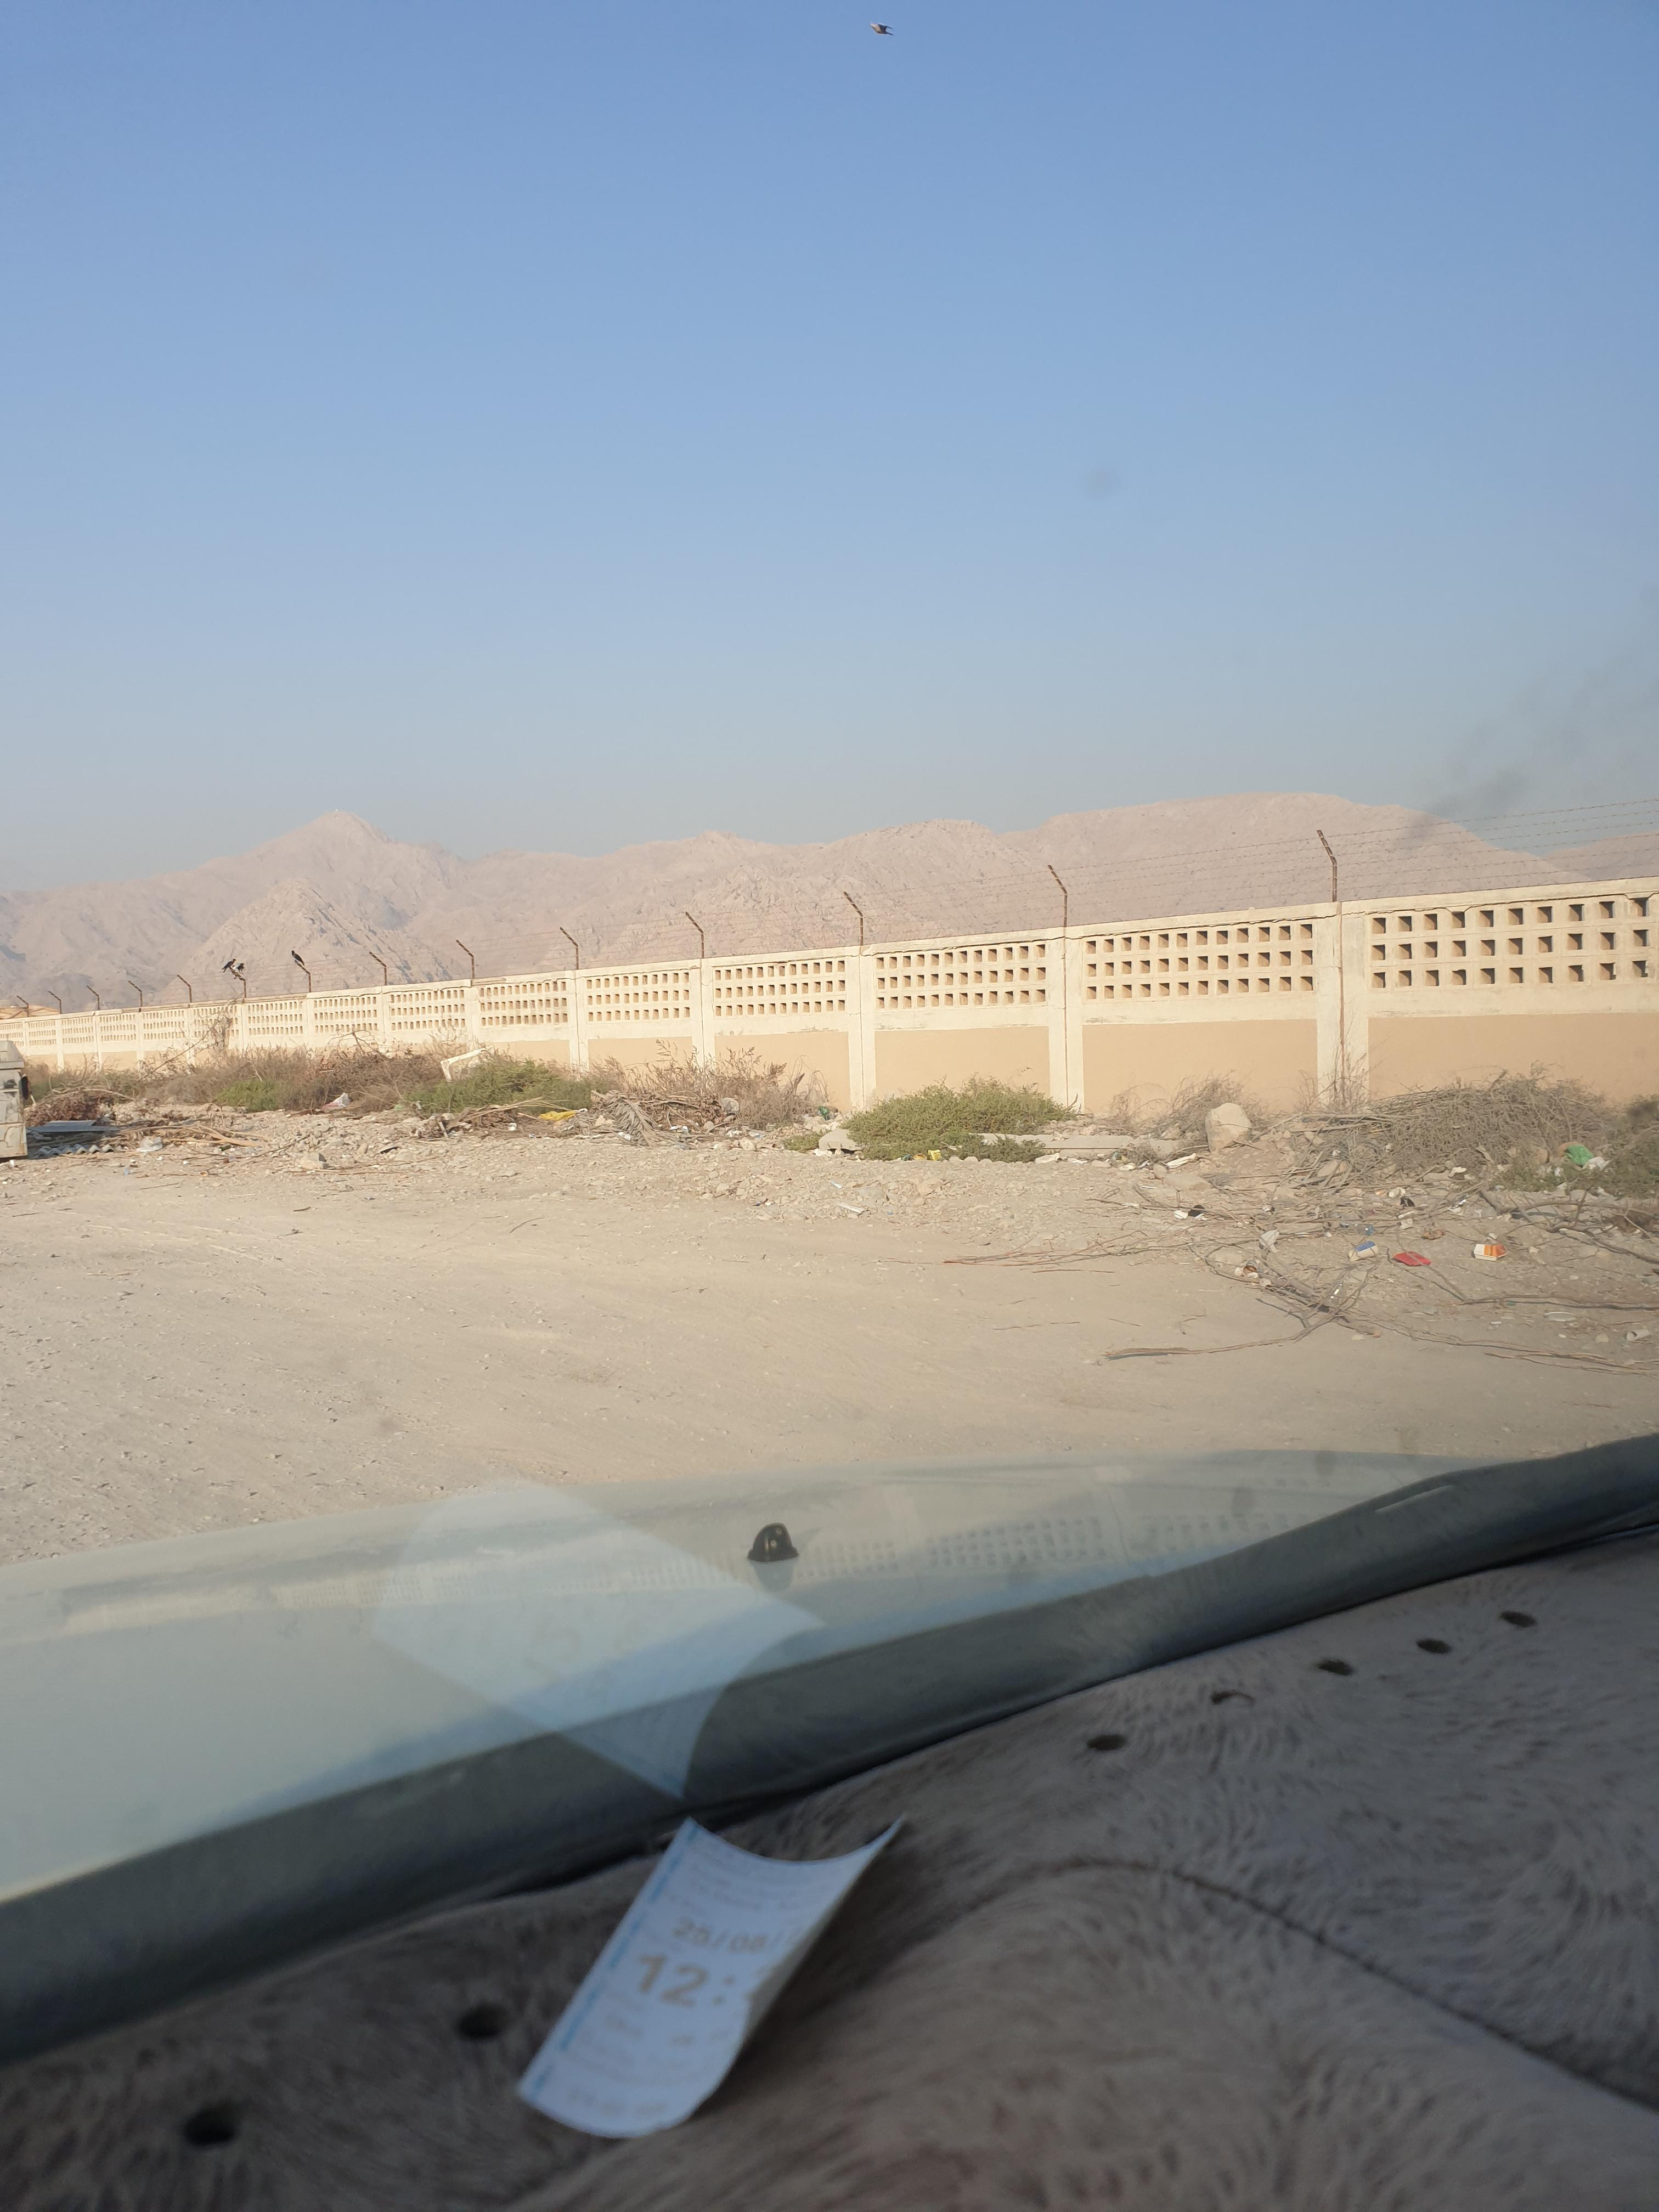fallen_trees: (1345, 1299, 1586, 1378), (1218, 1256, 1387, 1352), (1457, 1324, 1635, 1390), (1096, 1327, 1300, 1369), (153, 1108, 281, 1157), (986, 1237, 1134, 1278), (408, 1099, 519, 1148), (584, 1089, 666, 1151), (307, 1150, 389, 1177)
